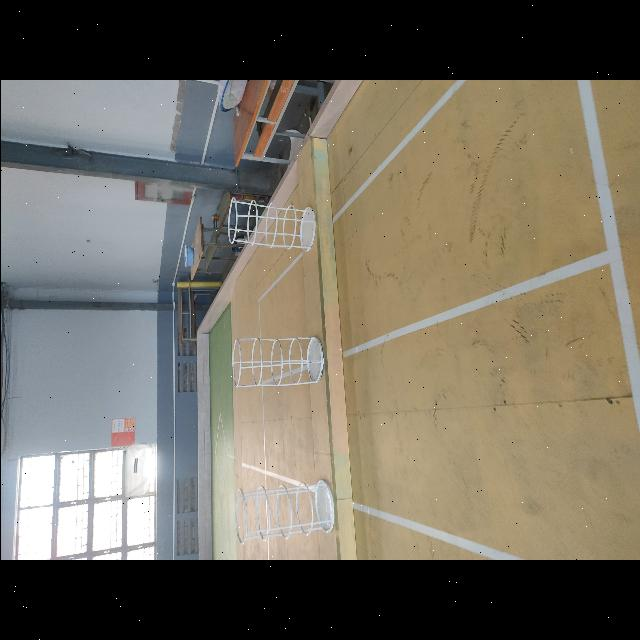S: (232, 479, 334, 544), (231, 335, 324, 388), (227, 197, 315, 250)
